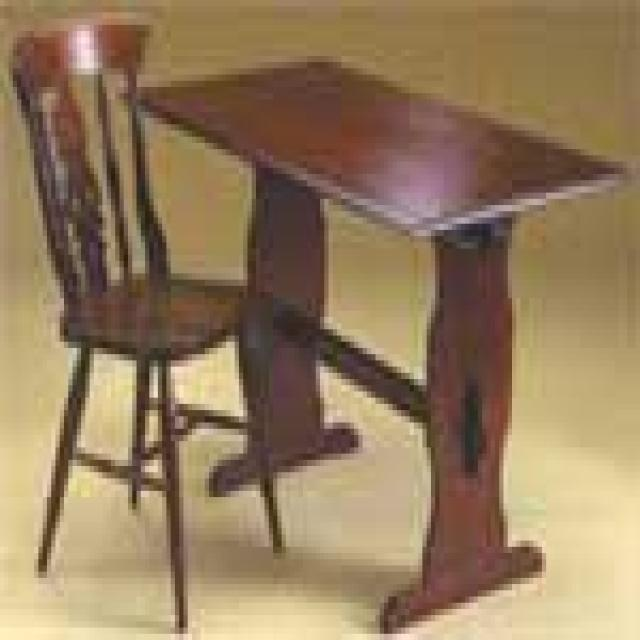table: (119, 59, 628, 626)
